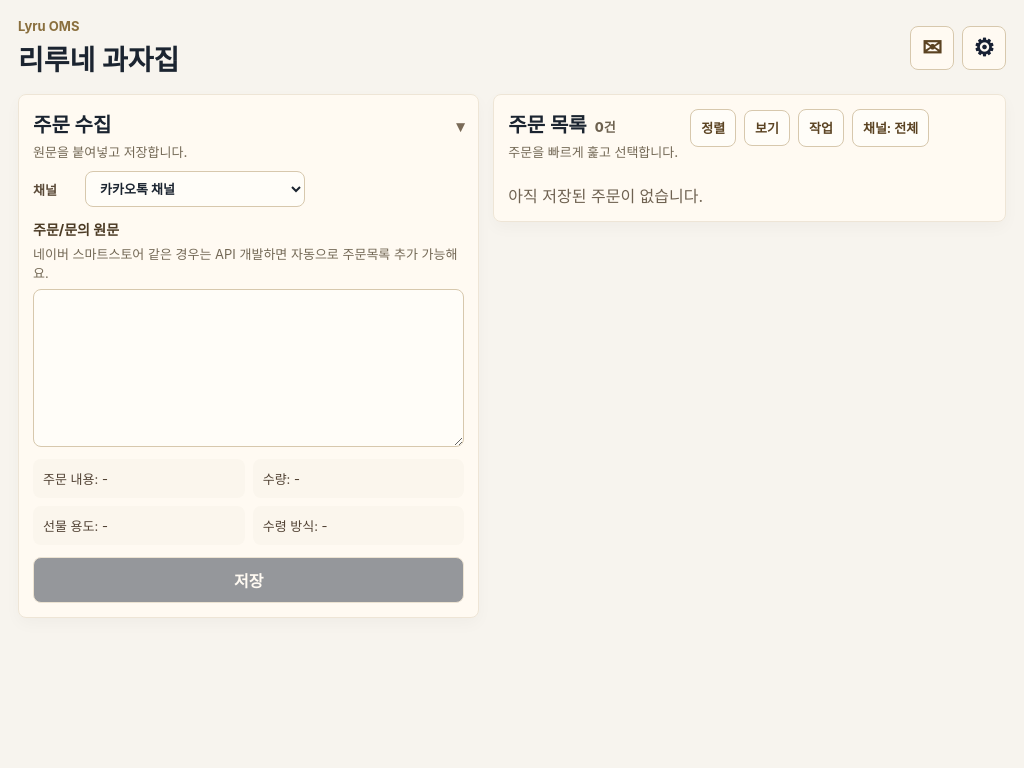
Scenario: App › opens account management from the header
The image size is (1024, 768).
Expected: the heading "리루네 과자집" is shown, [18, 38, 179, 78]
What coordinates should you click on to do the following:
click the button named "메뉴"
I would click on:
 (984, 48)
Its box is [962, 26, 1006, 70].
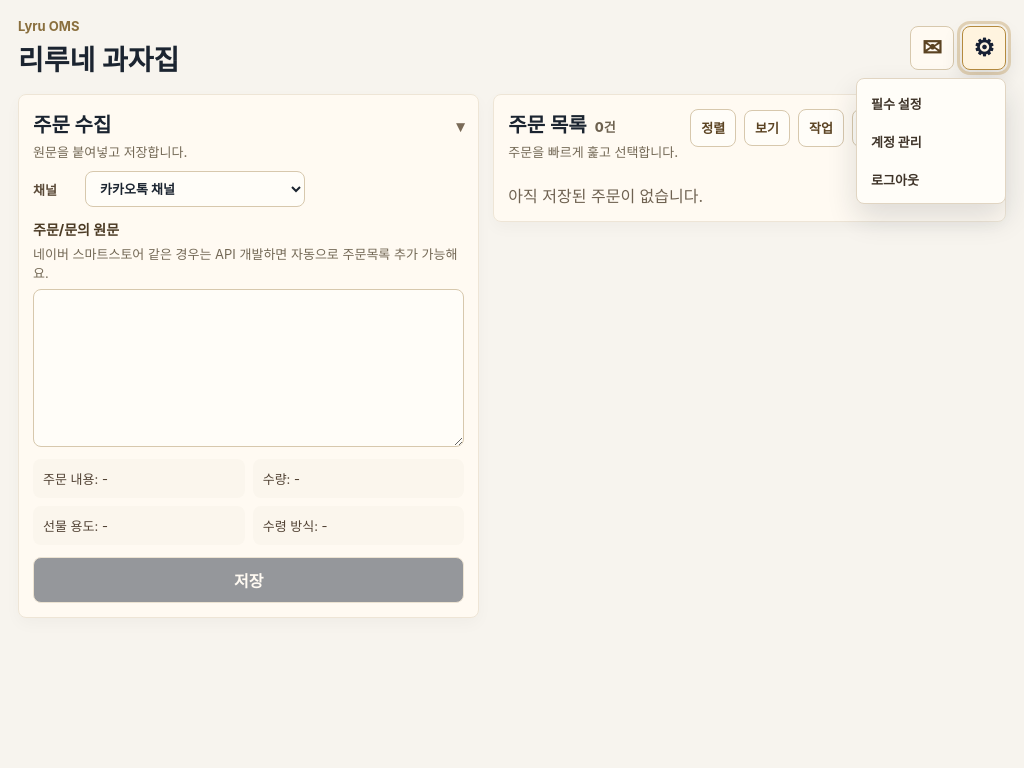
What coordinates should you click on to do the following:
click the menu item "계정 관리"
I would click on:
 (931, 141)
Its box is [863, 123, 999, 159].
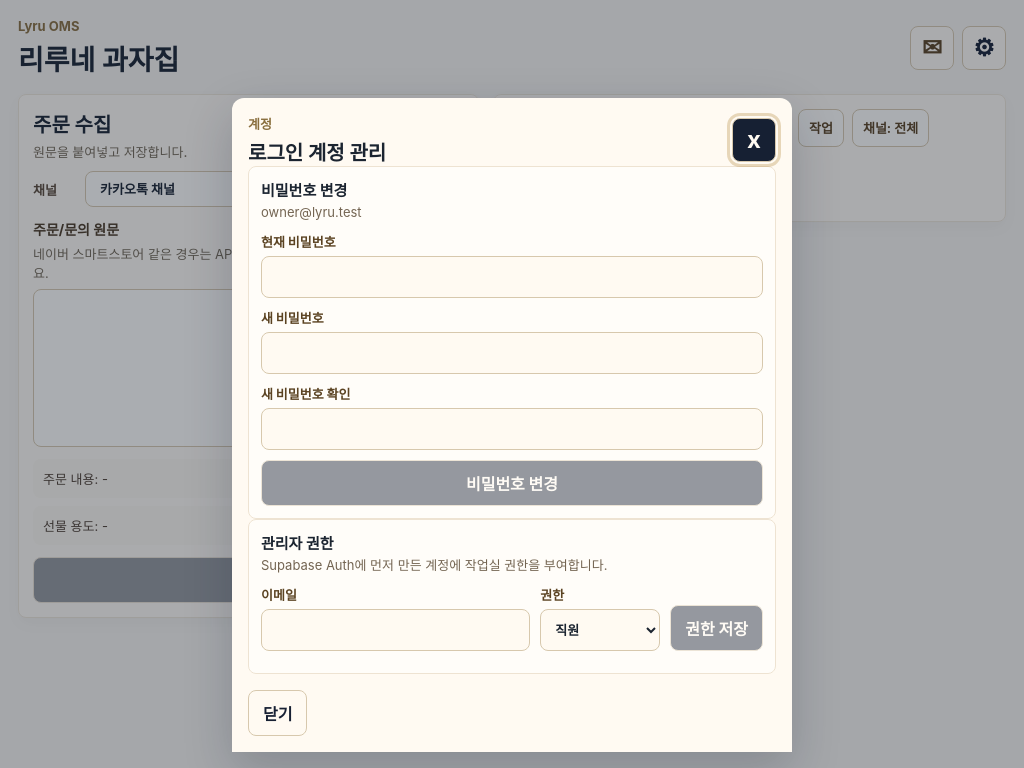
Result: the dialog "로그인 계정 관리" is shown at [232, 98, 792, 752]
Result: the text "owner@lyru.test" is shown at [261, 204, 362, 220]
